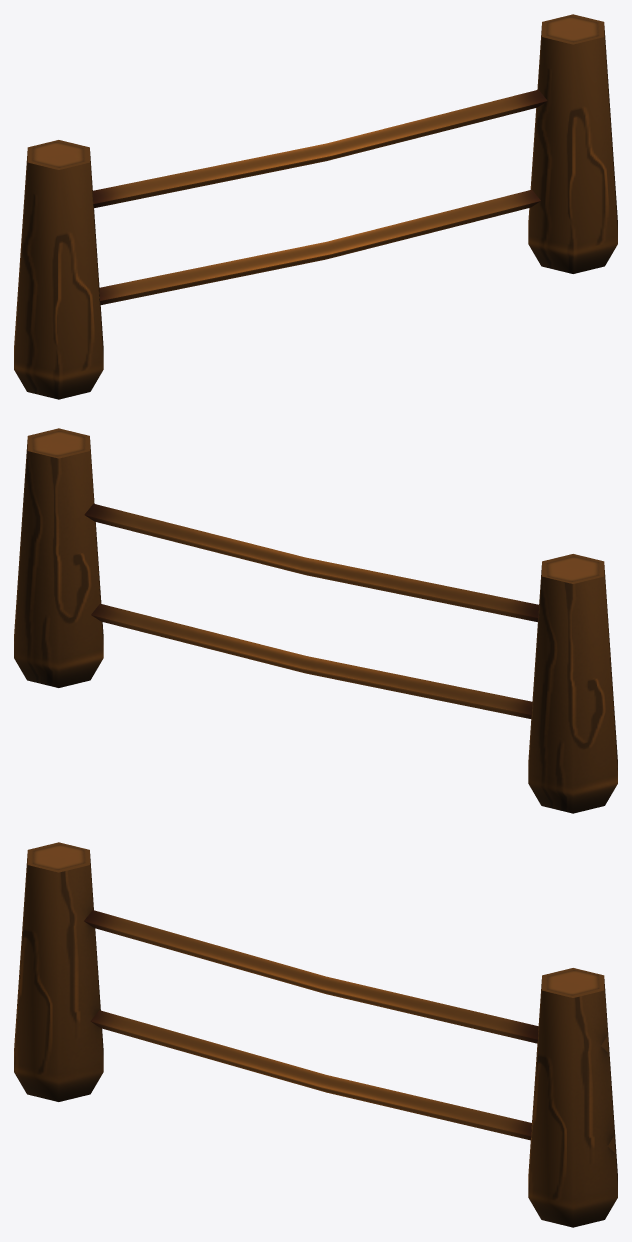
File: Fence_02.FBX
3 views of the same model, one above another, from view 1: azimuth 30°, elevation 25°; view 2: azimuth 150°, elevation 25°; view 3: azimuth 330°, elevation 25° (orthographic).
Visible parts, largest first — view 1: Fence_02; view 2: Fence_02; view 3: Fence_02.
Boxes of the visible parts, x1,y1,x2,y2 form: Fence_02: (14,14,617,399); Fence_02: (14,428,617,813); Fence_02: (14,842,617,1227).
Size of the model in its own units: 54.32 by 19.7 by 6.98.
